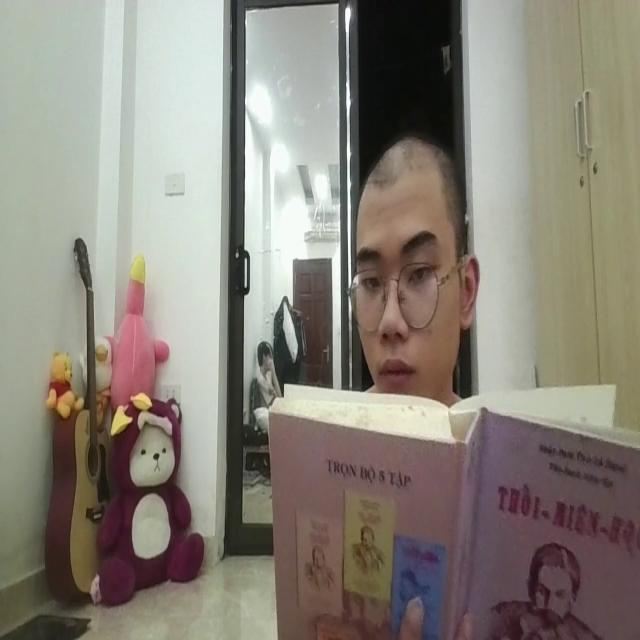book: (266, 351, 640, 640)
extra_person: (248, 332, 288, 424)
student: (341, 121, 477, 406)
